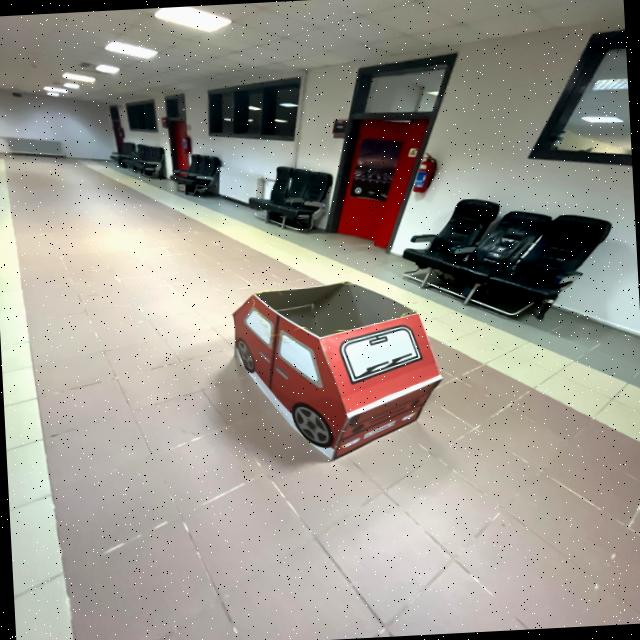red_car: (217, 273, 446, 473)
